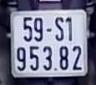1: (65, 15, 75, 42)
2: (71, 45, 83, 73)
3: (42, 45, 54, 71)
5: (28, 44, 41, 74), (22, 15, 33, 43)
8: (59, 45, 70, 72)
9: (15, 46, 27, 73), (33, 16, 44, 42)
S: (53, 15, 65, 44)
